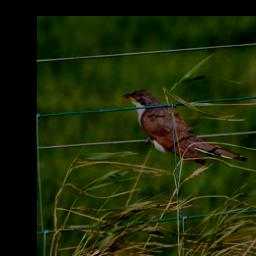Cuckoo: (120, 85, 249, 173)
